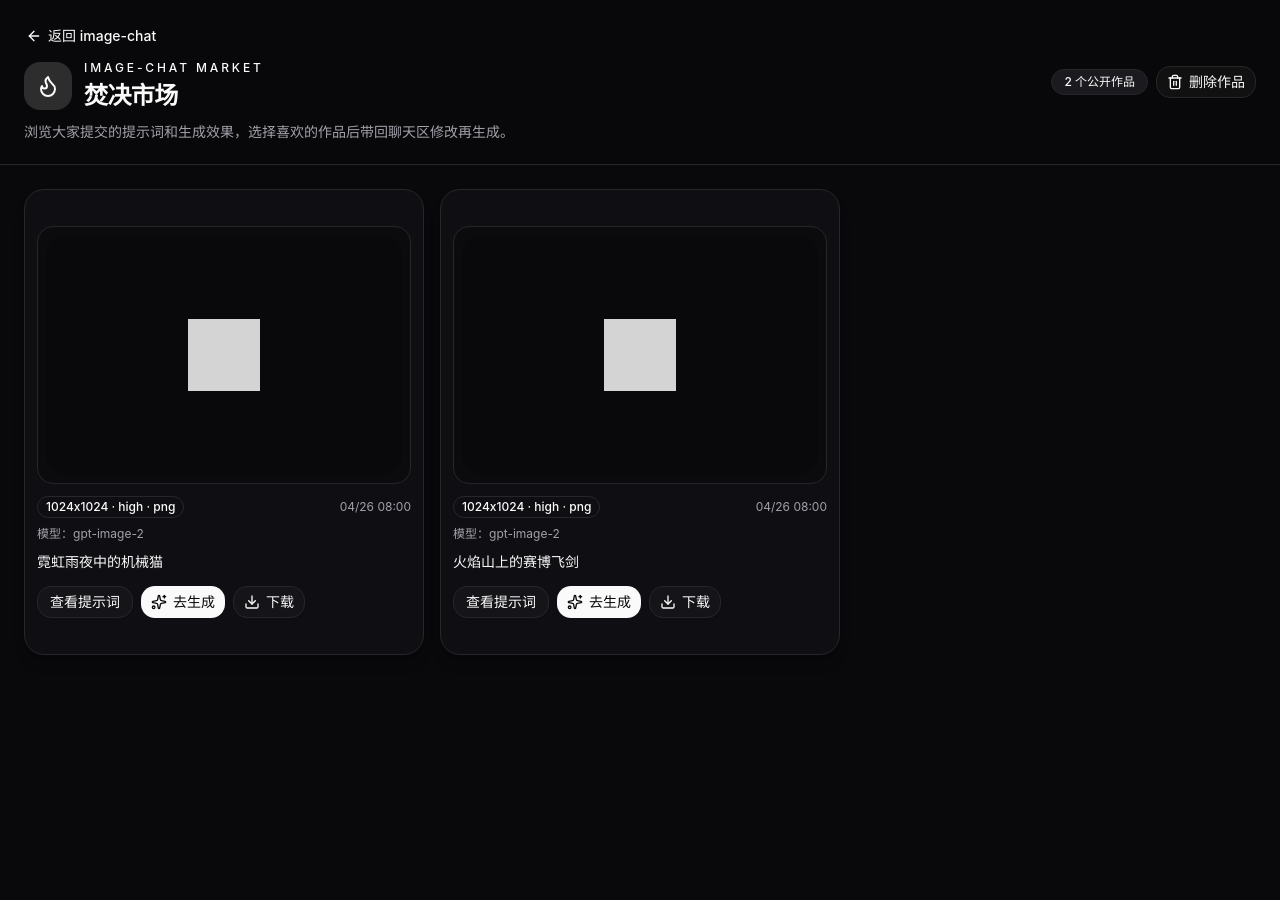
it: MarketPageClient › allows admins to enter top delete mode, select an item, and delete it
Click the button "删除作品". click: (1206,82)
box: [1156,66,1256,98]
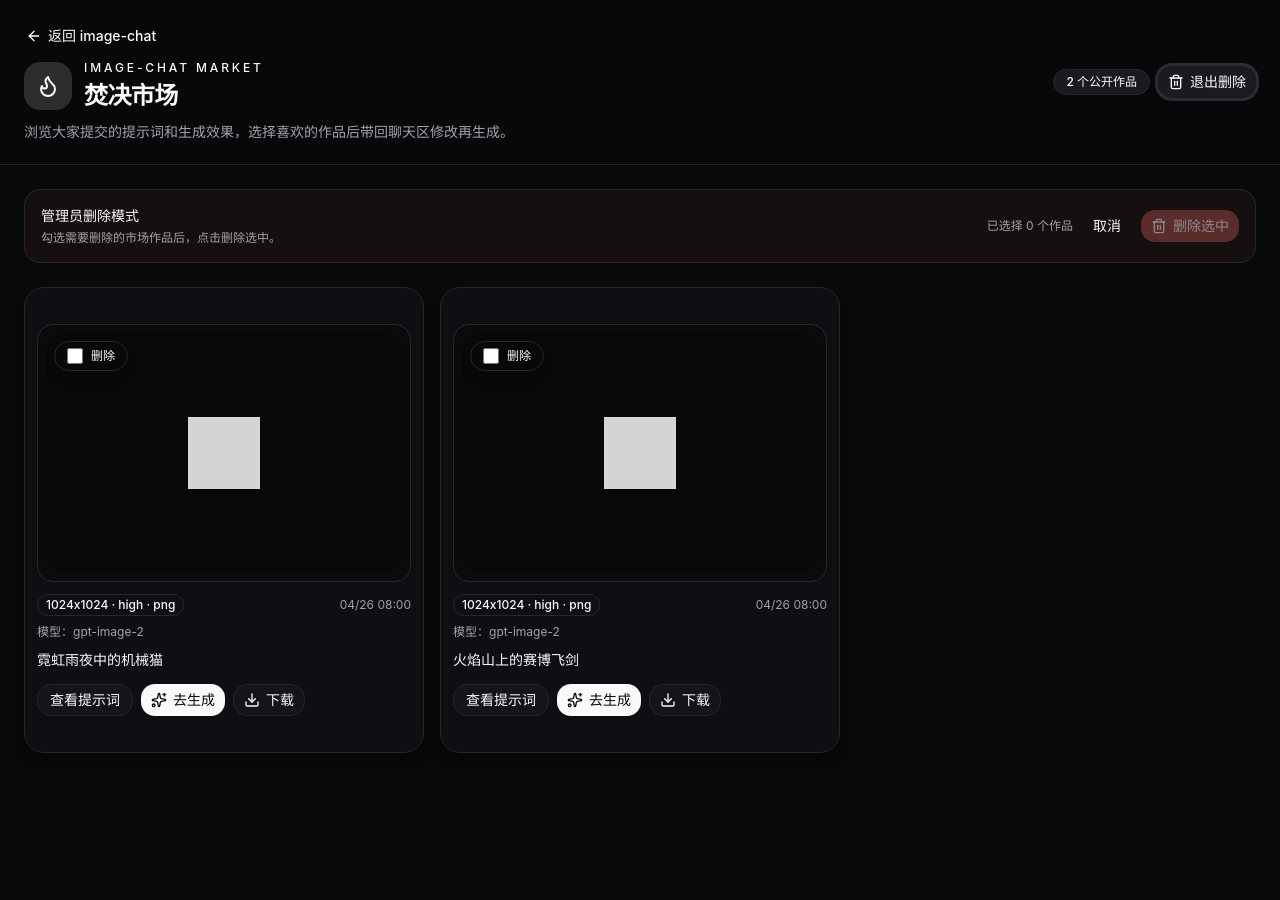
Check: the checkbox named "选择删除 霓虹雨夜中的机械猫" is shown
Click the checkbox named "选择删除 霓虹雨夜中的机械猫". click: (75,356)
box: [67,348,83,364]
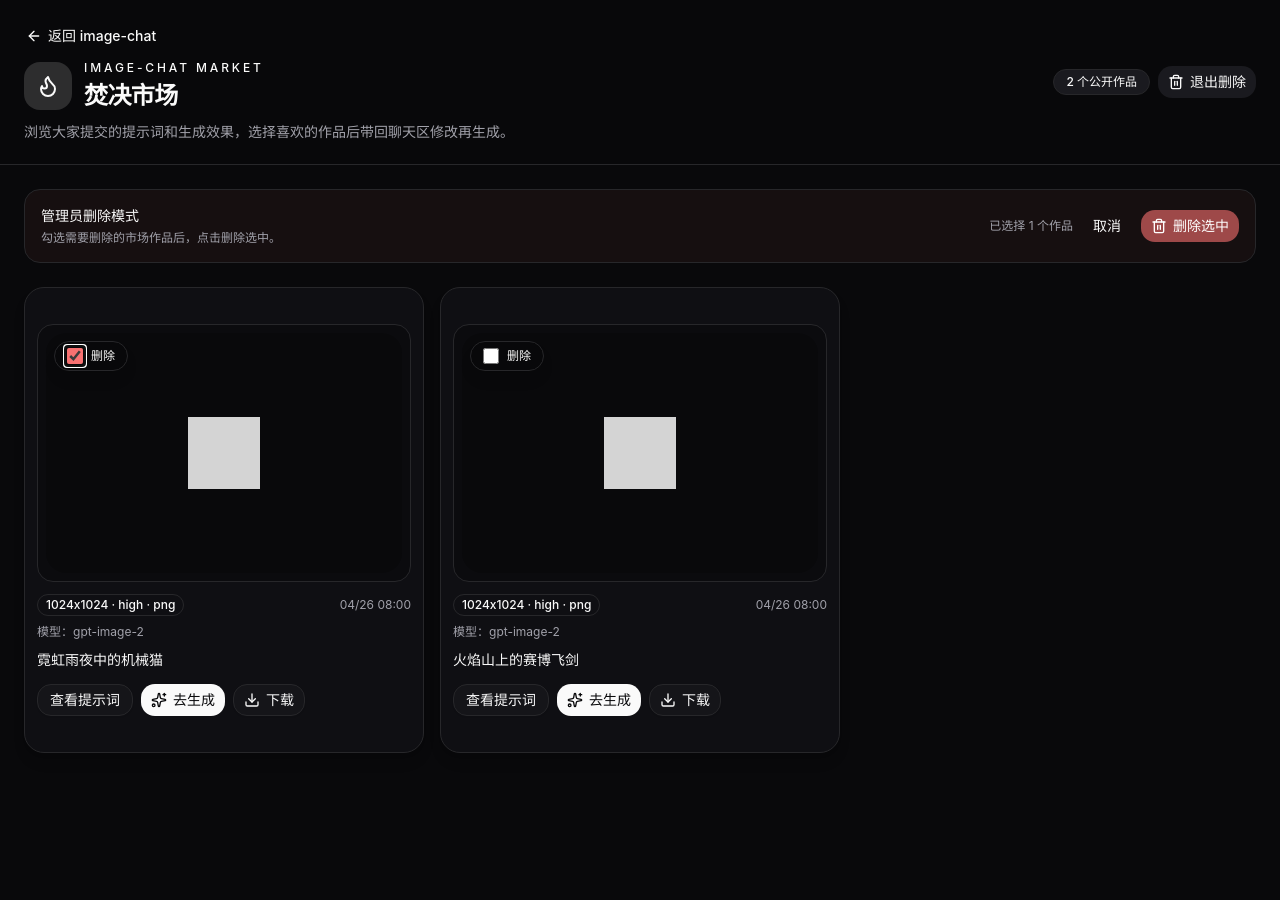
Click the button "删除选中". click: (1190,226)
box: [1141,210,1239,242]
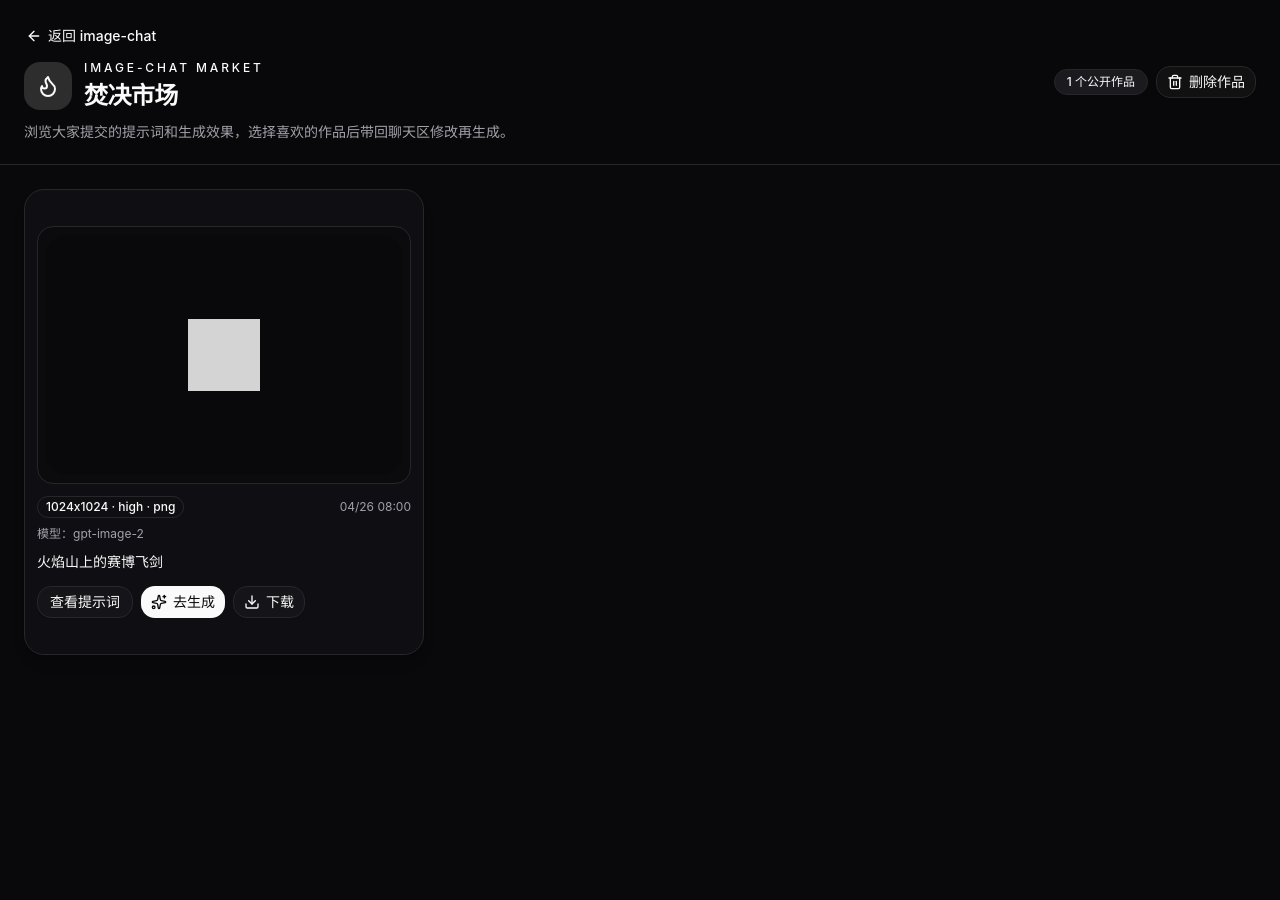
Check: the text "火焰山上的赛博飞剑" is shown, box [37,553,163,570]
Check: the text "霓虹雨夜中的机械猫" is gone
